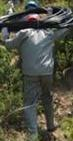gloves: (1, 1, 1, 1)
hard-hat: (1, 1, 1, 1)
ppe-suit: (12, 27, 57, 127)
